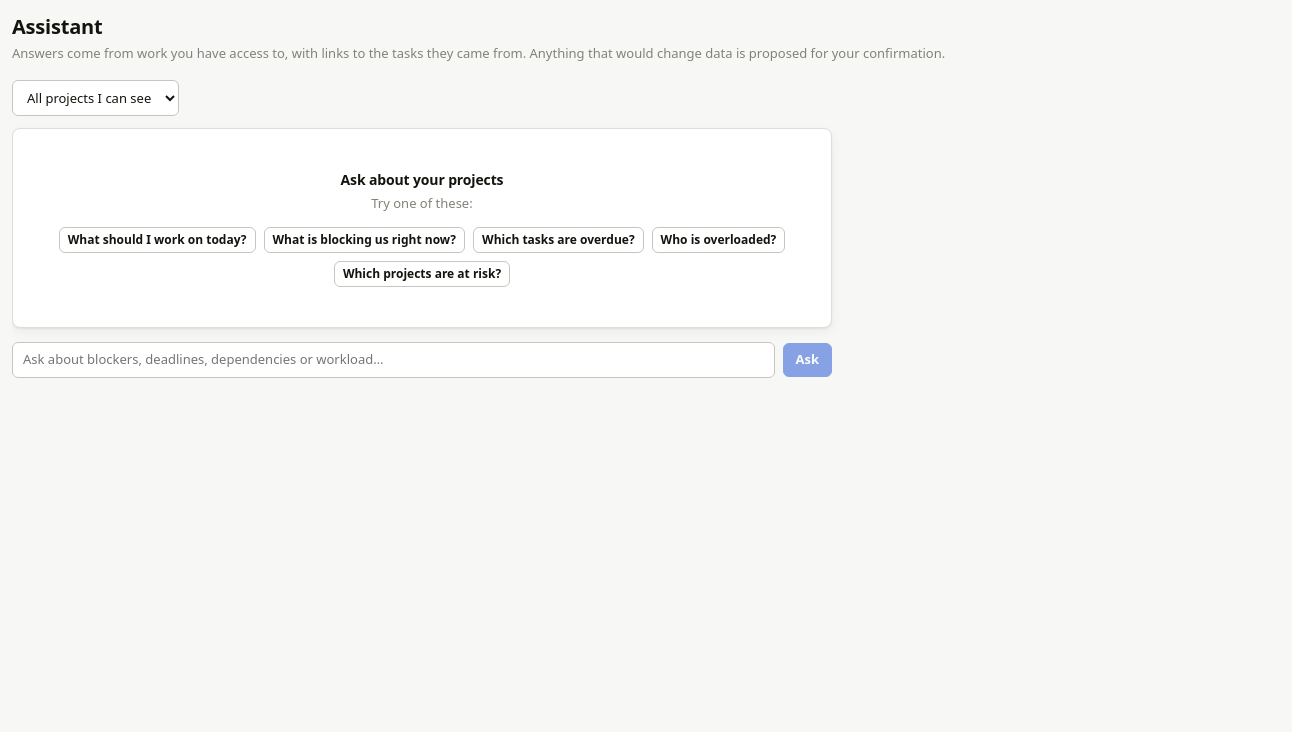
Test: Assistant › sends an explicit confirm flag only after the click, then marks it applied
The width and height of the screenshot is (1292, 732).
Type "Create a task to chase legal" into the field named "Question".
click(393, 360); type("Create a task to chase legal")  # box [12,342,774,378]
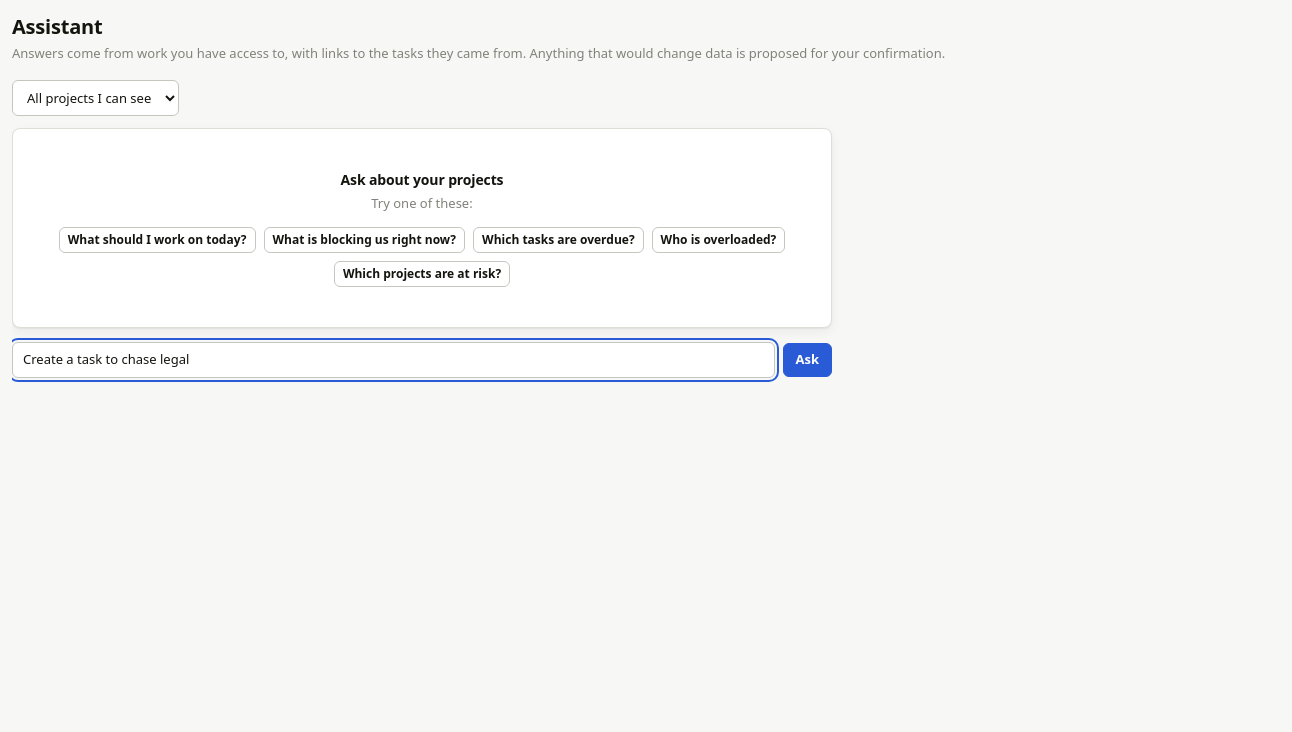
Click the button "Ask".
click(807, 360)  # box [782,343,832,376]
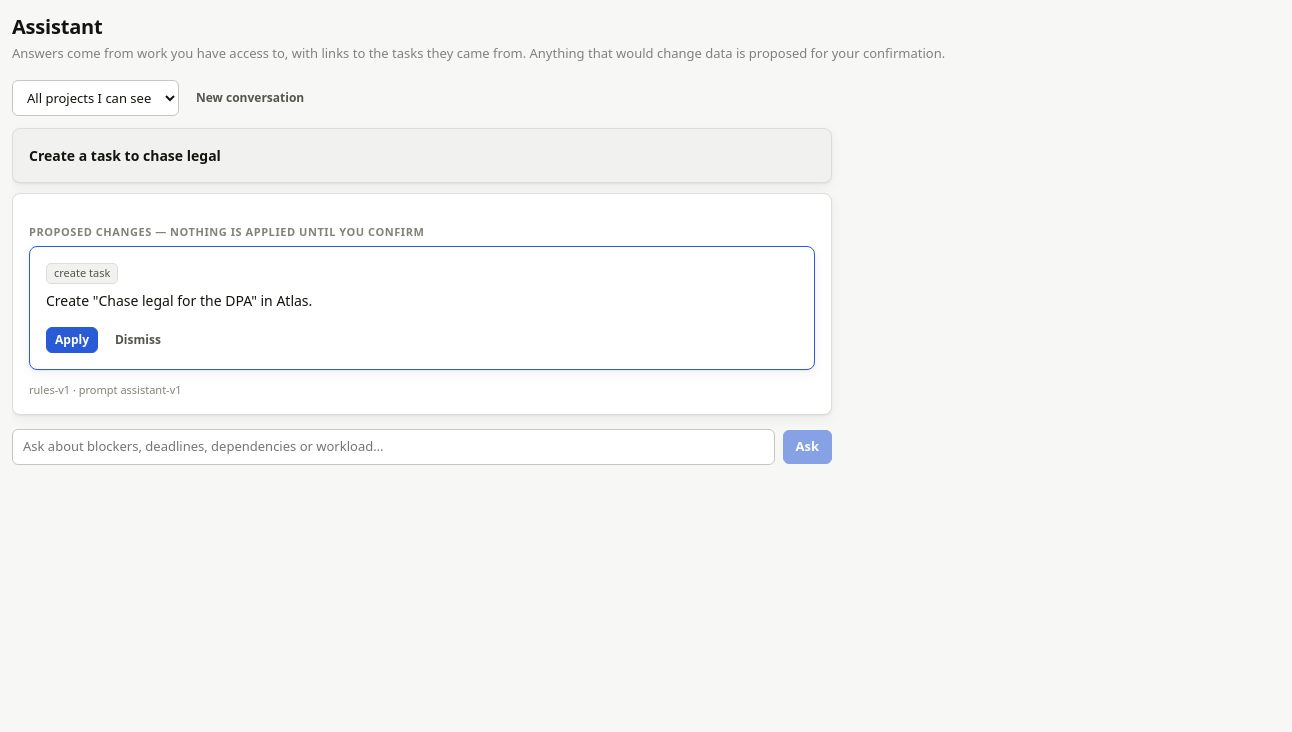
Click the button "Apply".
click(72, 340)  # box [46,326,98,352]
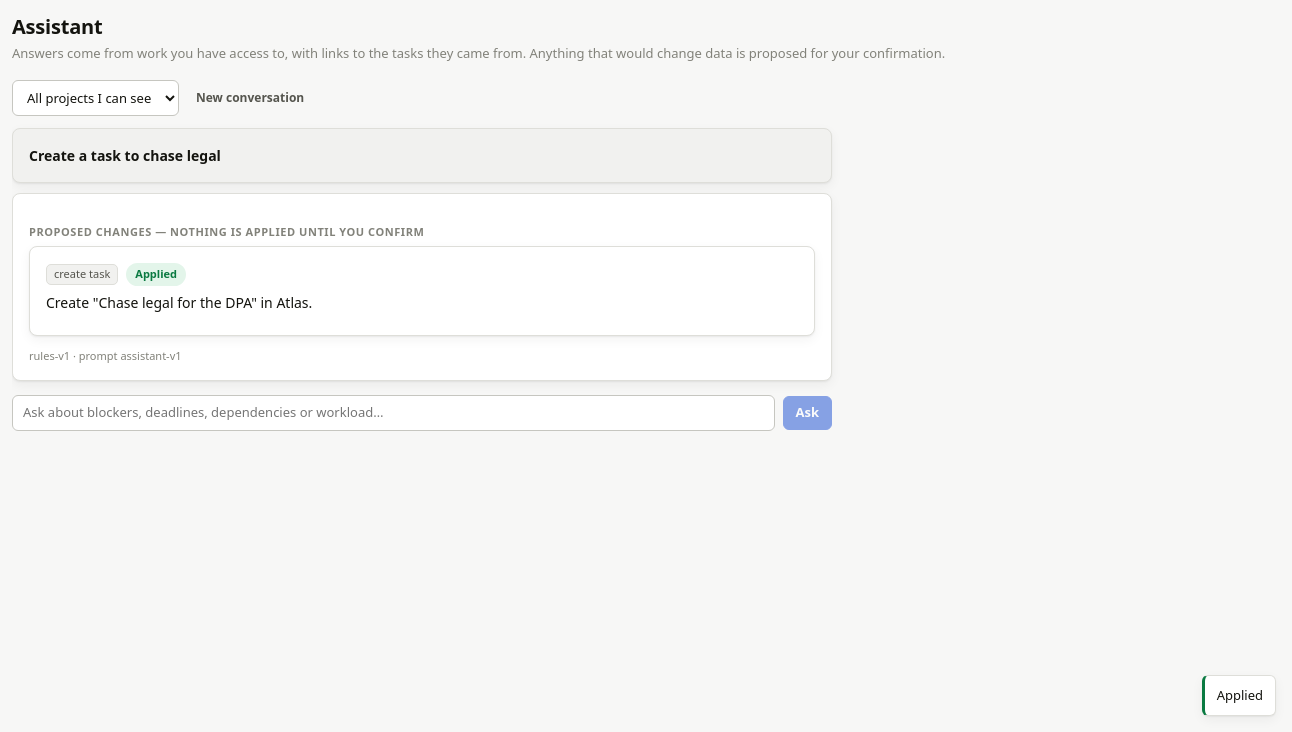
Expected: the text "Applied" next to "create task" is shown, [135,266,177,281]
Expected: the button "Apply" is gone
